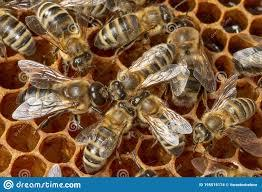worker-bee: (12, 59, 110, 127), (192, 74, 261, 156), (25, 0, 92, 73), (109, 43, 188, 99), (75, 100, 136, 172), (167, 16, 215, 106), (94, 4, 172, 55), (130, 91, 192, 155), (0, 7, 35, 59)
